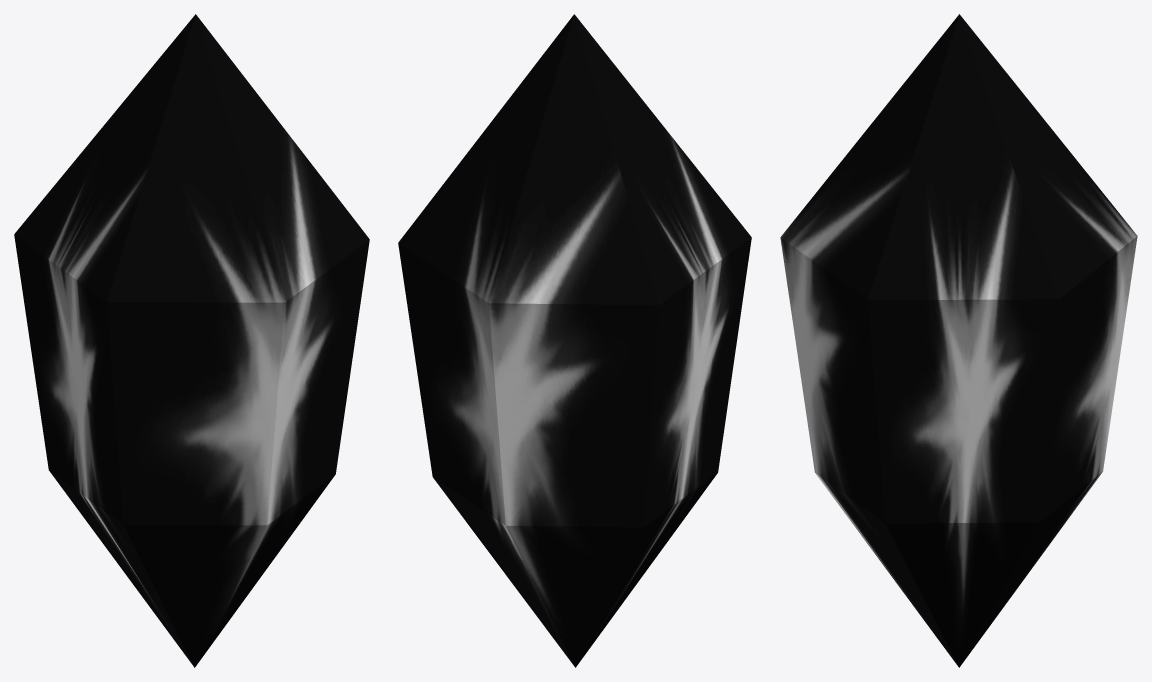
Rendered from 0432_shuijing_01.glb.
The picture shows the model from 3 angles, left to right: view 1: azimuth 30°, elevation 25°; view 2: azimuth 150°, elevation 25°; view 3: azimuth 270°, elevation 25°; orthographic projection.
Size of the model in its own units: 0.9212 by 2.2 by 1.09.
1 material, 1 textured.
